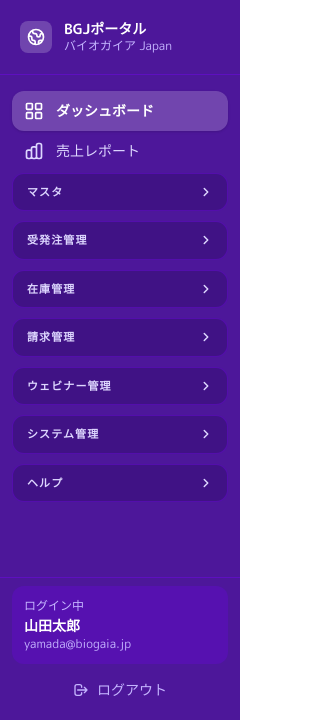
Test: BgjSidebar › 役職マスタ・担当エリアは普段は非表示で、営業担当のトグルをクリックすると表示される
Expected: the text "役職マスタ" is not shown
Expected: the text "担当エリア" is not shown
Click the button with aria-label "マスタを開く" at coordinates (120, 192), box [19,180,221,204]
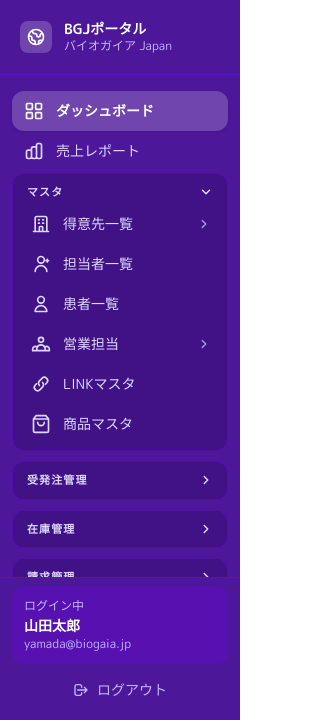
Click the button named "営業担当の詳細を開く" at coordinates (204, 344), box [187,327,221,361]
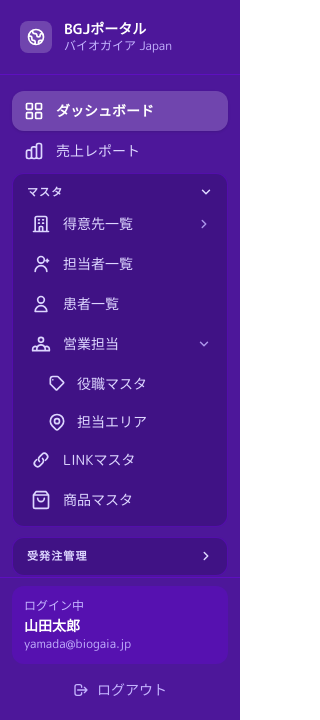
Now the text "役職マスタ" is shown, box [77,374,147,393]
Now the text "担当エリア" is shown, box [77,412,147,431]
